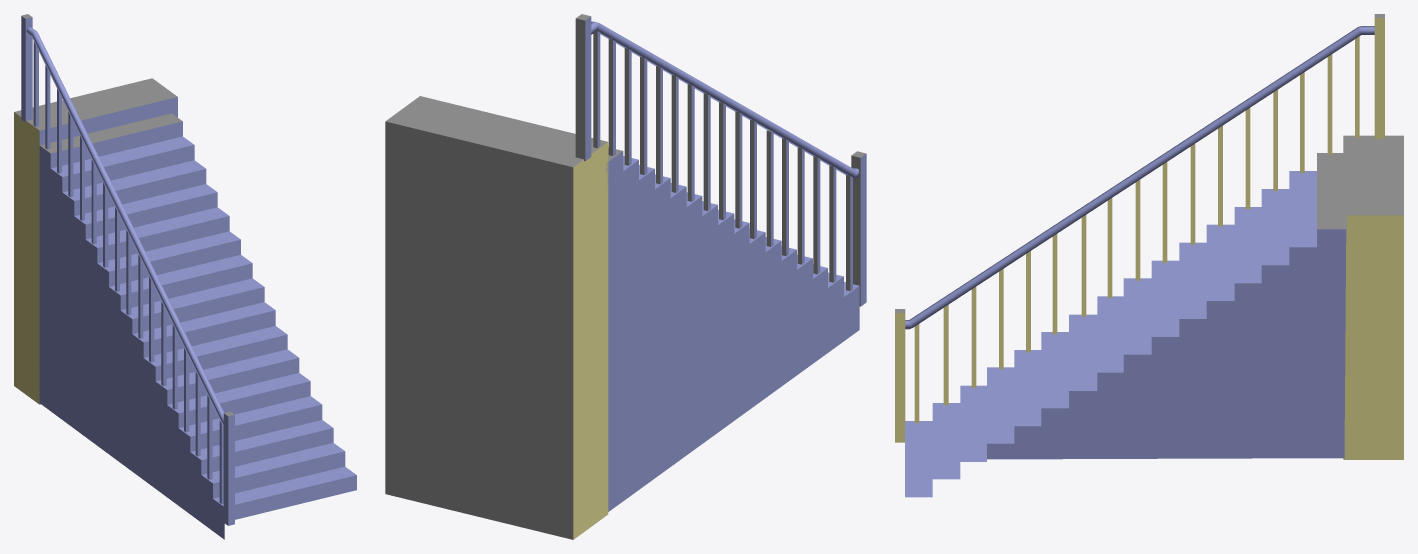
The model's file is In_Stairs_COL.FBX.
The picture shows the model from 3 angles, left to right: view 1: azimuth 30°, elevation 25°; view 2: azimuth 150°, elevation 25°; view 3: azimuth 270°, elevation 25°; orthographic projection. The views are drawn at different scales.
Visible parts, largest first — view 1: In_Stairs_COL; view 2: In_Stairs_COL; view 3: In_Stairs_COL.
Boxes of the visible parts, x1=… form: In_Stairs_COL: x1=14, y1=14, x2=356, y2=539; In_Stairs_COL: x1=385, y1=14, x2=866, y2=539; In_Stairs_COL: x1=895, y1=14, x2=1403, y2=497.
Size of the model in its own units: 160 by 413 by 427.
